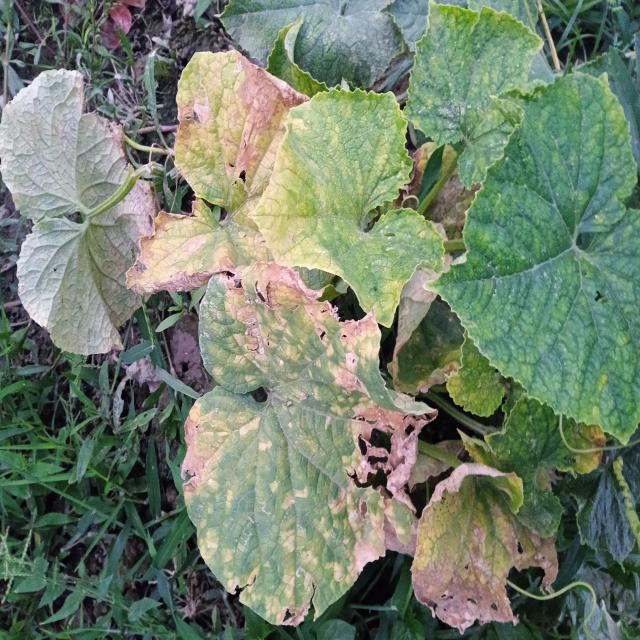cucumber_bacterial: (200, 286, 419, 628), (422, 472, 536, 640), (173, 49, 291, 184), (106, 196, 216, 303)
